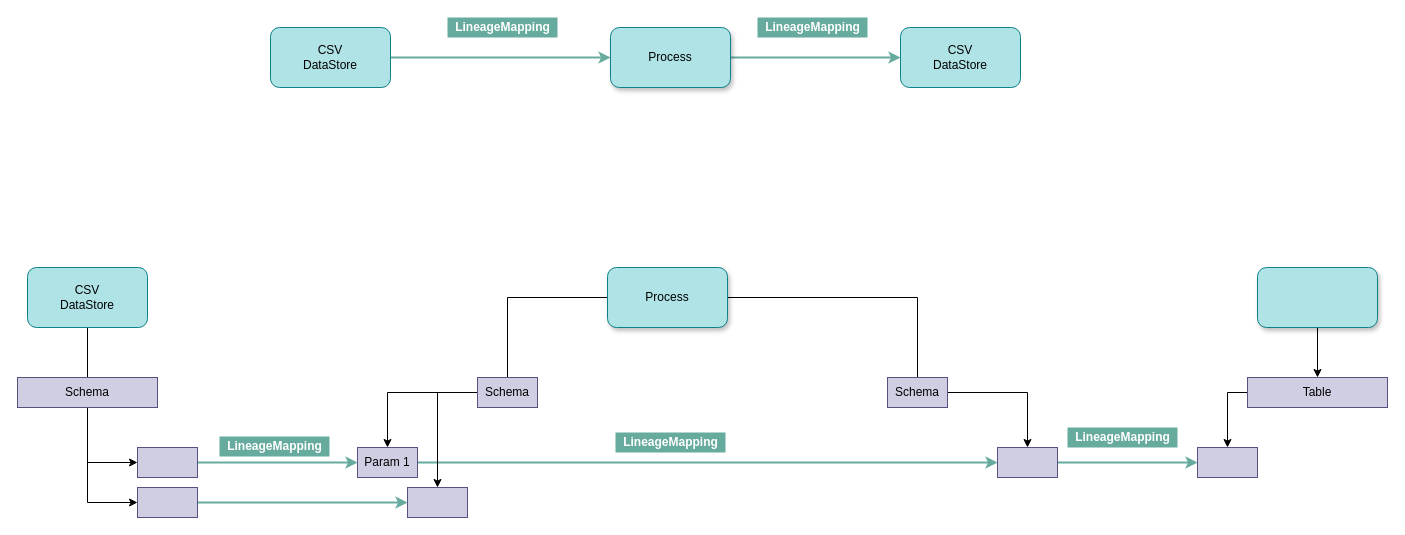
This 1405x535 diagram has some shape labels left out. The shapes that lost their labels are listed below. From the top down, each one's centre as x and y in pixels, then its label:
[1318,298]: Database
[167,462]: Col 1
[1027,462]: Param 3
[1227,462]: Column 1
[167,502]: Col 2
[437,502]: Param 2
